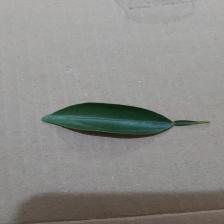healthy: (34, 102, 205, 142)
